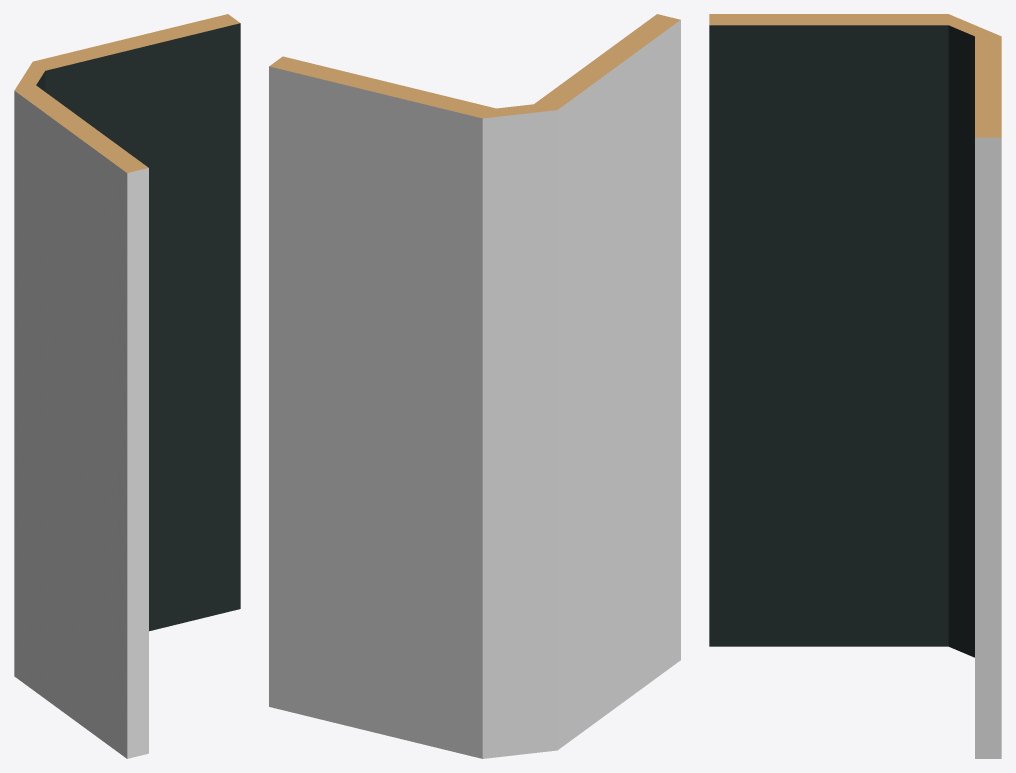
Rendered from wallCorner.glb.
3 renders of one model, left to right at view 1: azimuth 30°, elevation 25°; view 2: azimuth 150°, elevation 25°; view 3: azimuth 270°, elevation 25°, orthographic. The views are drawn at different scales.
Size of the model in its own units: 5.5 by 12.9 by 5.5.
